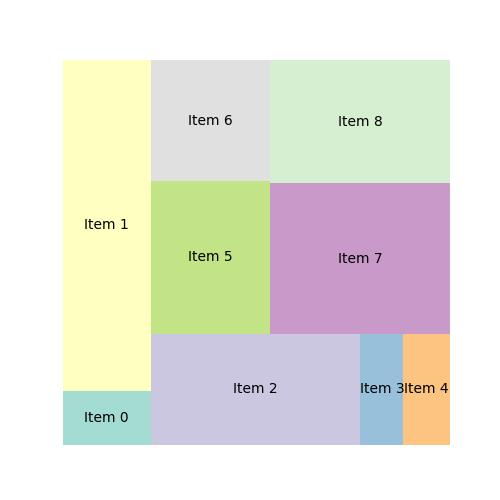rectangle: (63, 59, 151, 391), (271, 183, 449, 334), (151, 334, 361, 445), (271, 59, 449, 182), (152, 181, 272, 334), (150, 59, 271, 181), (403, 334, 450, 445), (361, 333, 404, 446), (63, 391, 151, 444)
